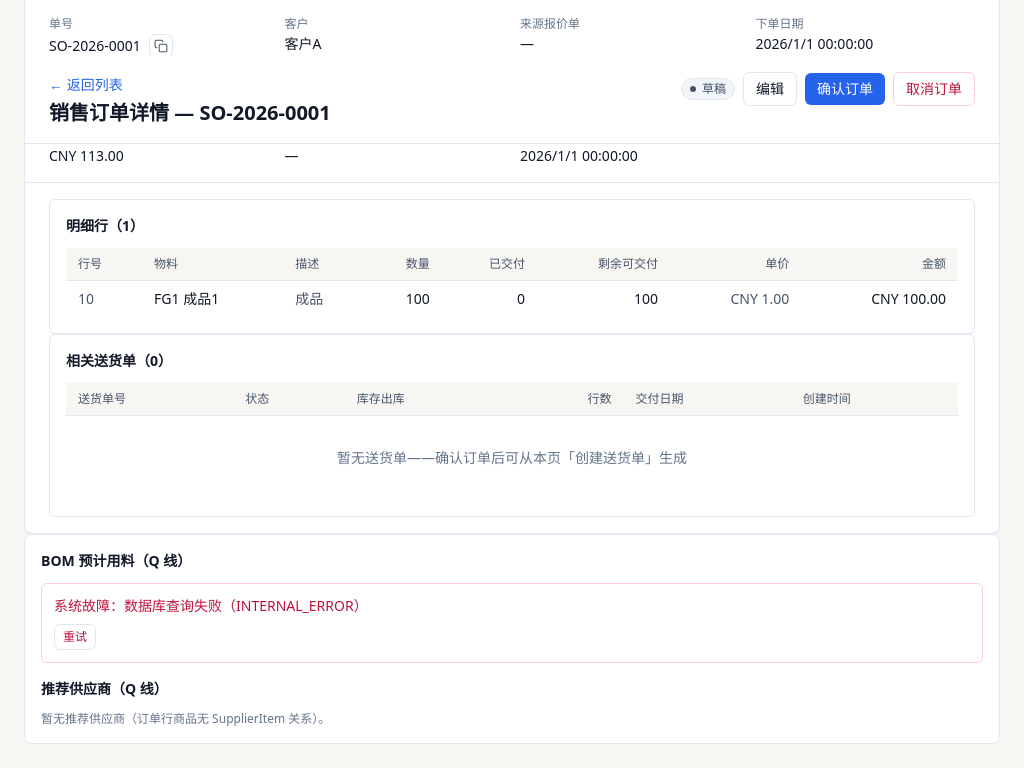
Sales Order Detail — Q 线投影（FRT-06：API 失败 ≠ 空态） › 点击重试后（接口恢复）BOM 用料正常渲染，错误面板消失
(page scrolled)
Expected: the text "系统故障：数据库查询失败（INTERNAL_ERROR）" is shown, top-left (54, 596), bottom-right (368, 615)
Click the button "重试": (75, 637) top-left (54, 624), bottom-right (96, 650)
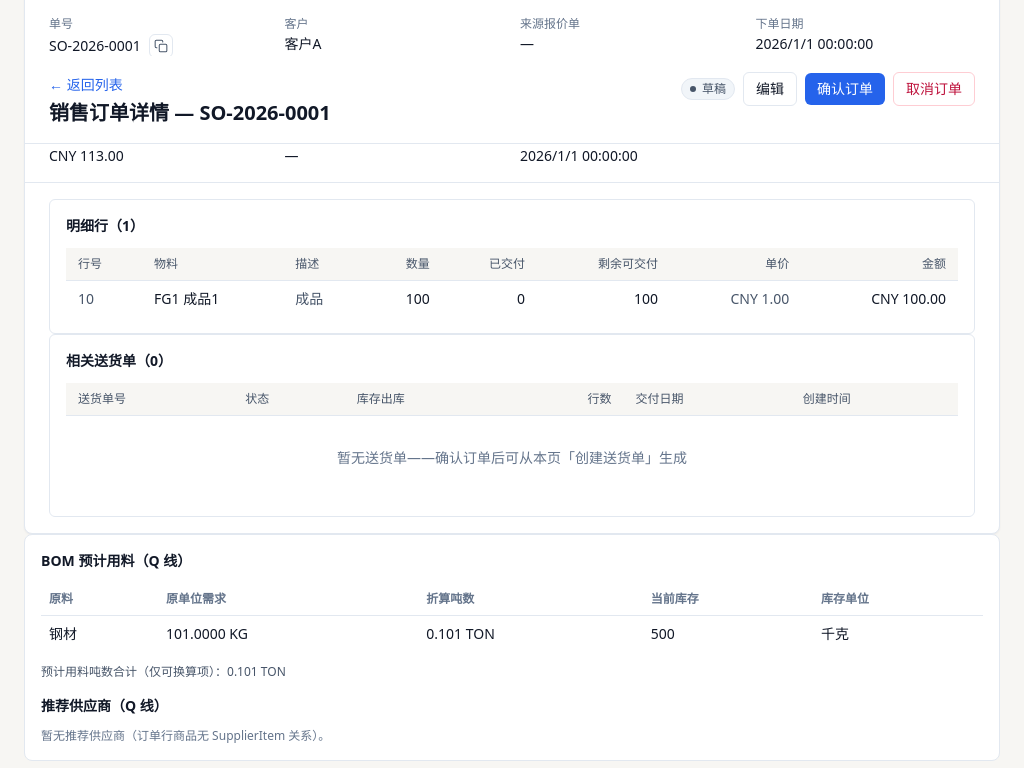
Result: the text "钢材" is shown at top-left (41, 616), bottom-right (158, 652)
Result: the text "系统故障" is gone
Result: the text "101.0000 KG" is shown at top-left (158, 616), bottom-right (418, 652)
